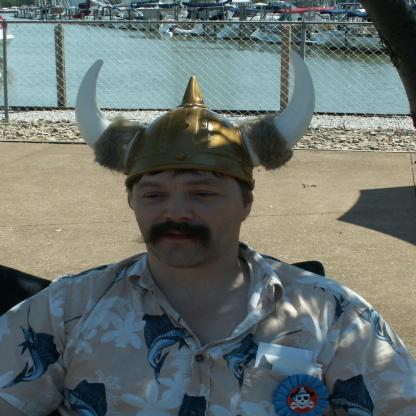Helmet: (73, 48, 316, 210)
